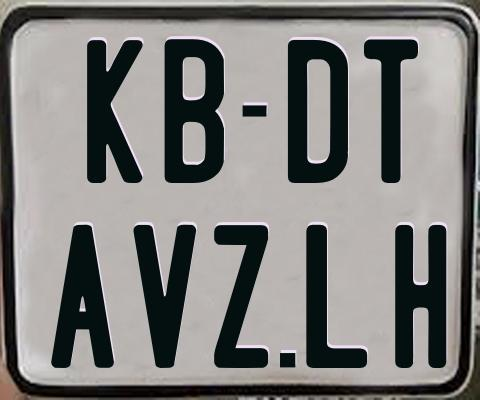A: (51, 225, 117, 374)
B: (163, 39, 228, 184)
D: (286, 40, 351, 188)
H: (394, 224, 449, 372)
K: (87, 40, 143, 189)
L: (305, 224, 369, 371)
T: (364, 38, 419, 187)
V: (130, 225, 193, 370)
Z: (212, 223, 270, 367)
